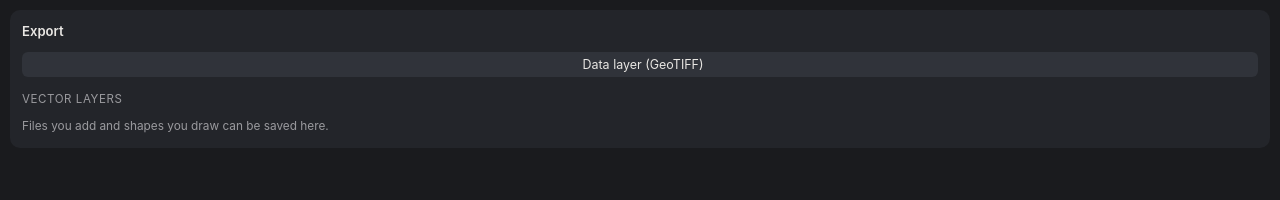
Test case: GeoTIFF export progress › Cancel stops the export and frees the button, without an error
Click the button "Data layer (GeoTIFF)" at (640, 64), box [22,52,1258,77]
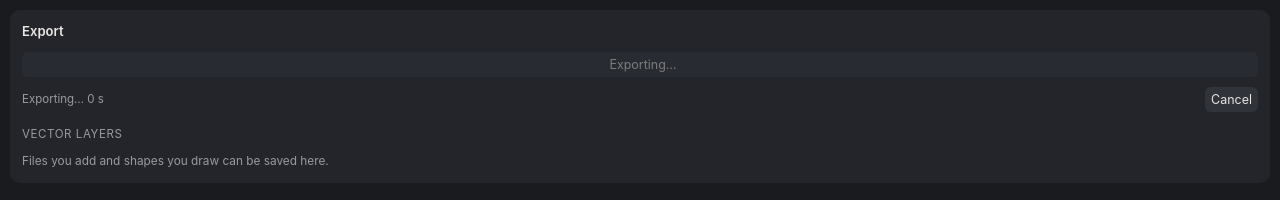
Click the button "Cancel" at (1232, 99), box [1205,87,1258,112]
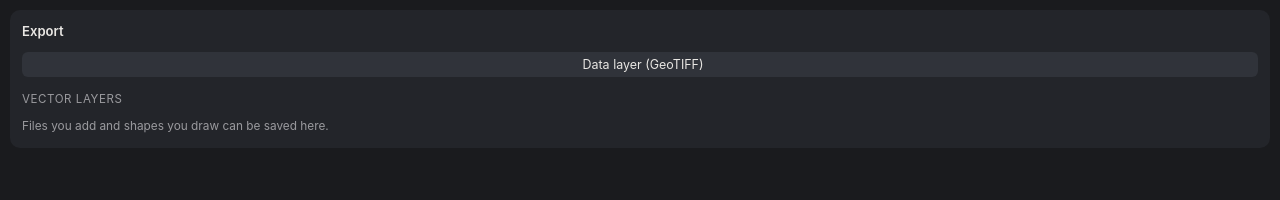
Check: the button "Data layer (GeoTIFF)" is enabled, box [22,52,1258,77]
Check: the button "Cancel" is gone
